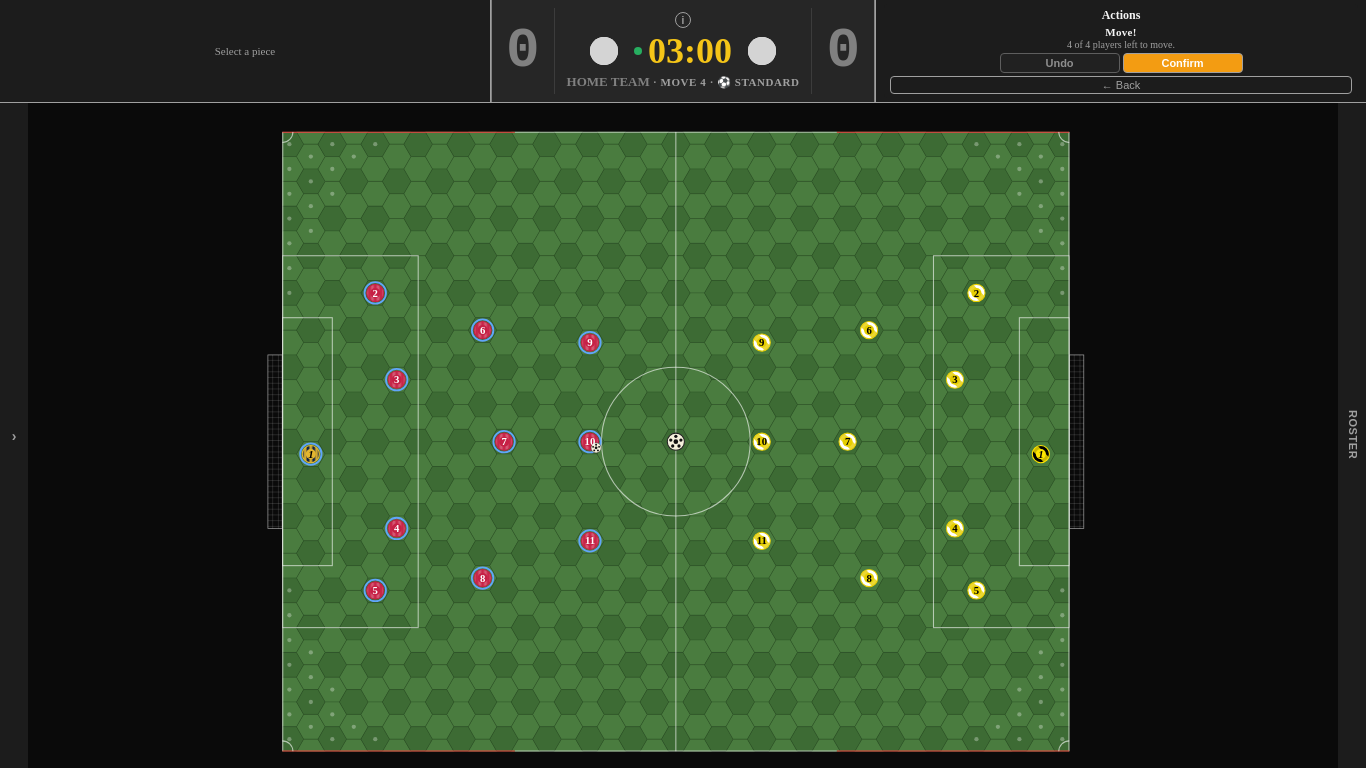
it: substitution affordance (SUB-01/02) › clicking outside a stoppage now OPENS the modal (not disabled) in a read-only presentation
What coordinates should you click on to do the following:
click the button with aria-label "View roster"
I would click on:
 (1352, 435)
Its box is [1342,406,1362,465].
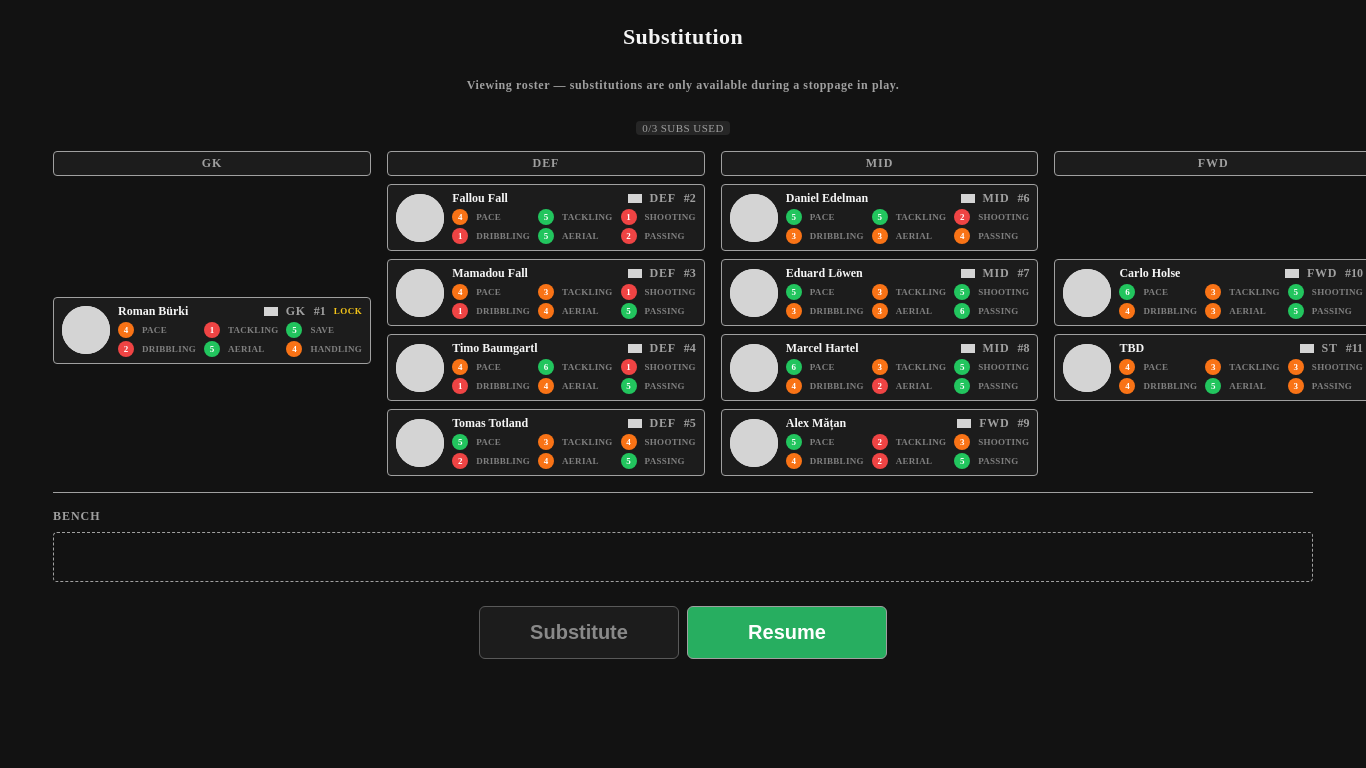
Expected: the heading "Substitution" is shown, [623,24,743,50]
Expected: the text "Viewing roster — substitutions are only available during a stoppage in play." is shown, [467,78,899,93]
